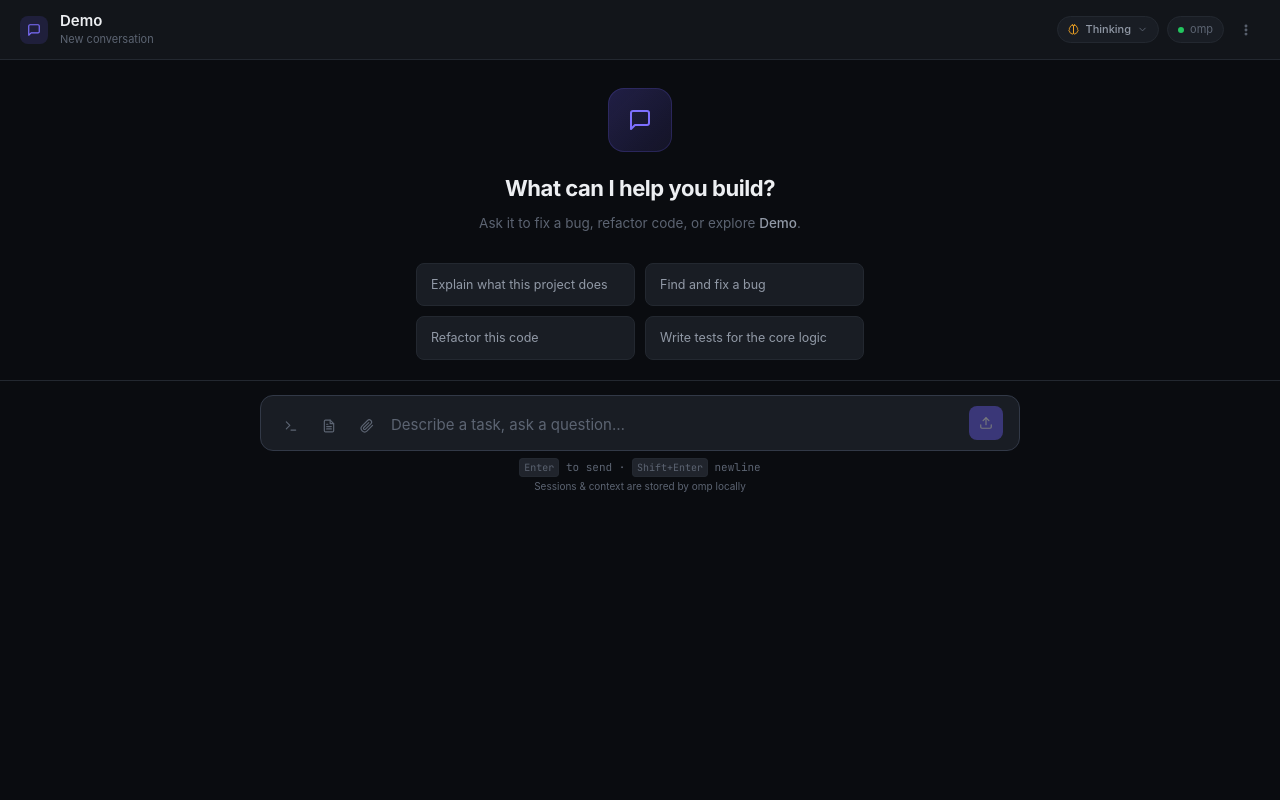
Test: AgentChat › keeps earlier turns when agent_end carries only the current turn
This screenshot has width=1280, height=800.
Type "first question" into the text box with placeholder "Describe a task, ask a question…". click: (675, 425)
box: [391,410,959,440]
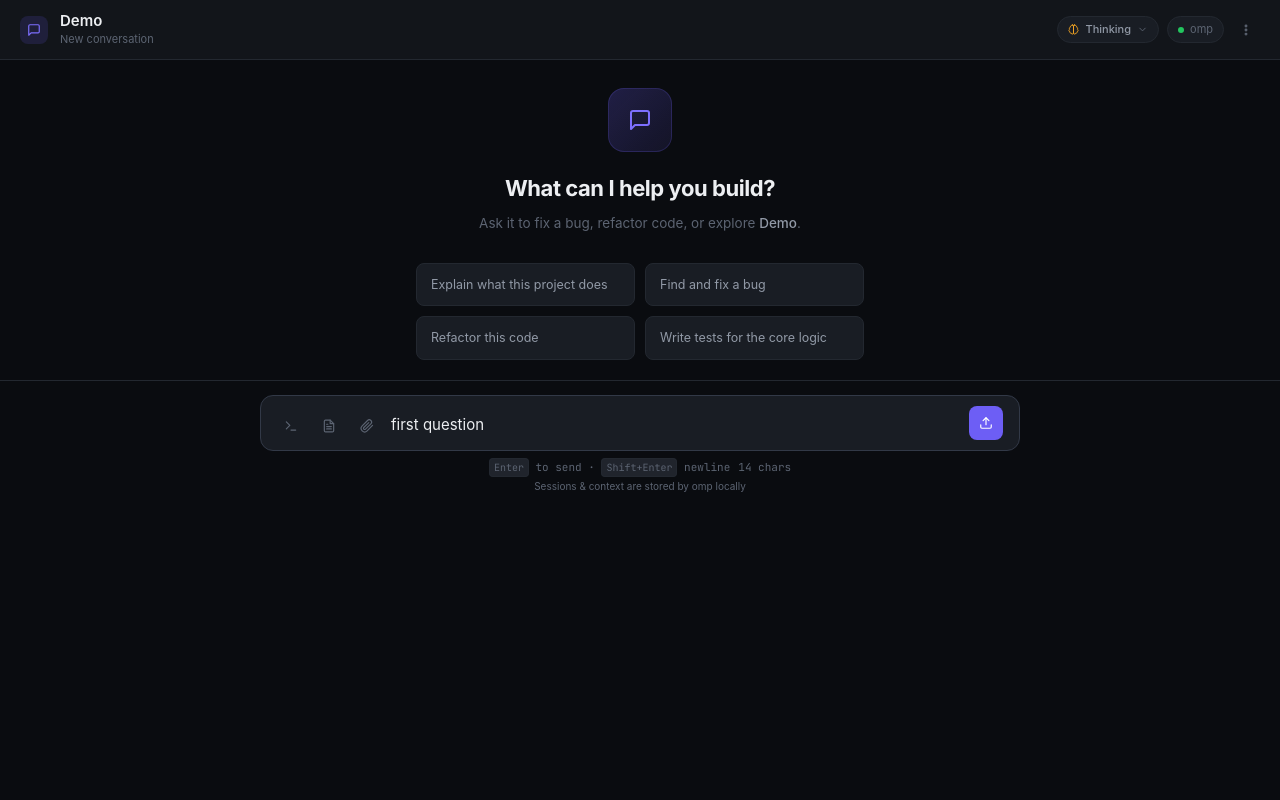
Click the button named "Send message". click: (986, 423)
box: [969,406,1003,440]
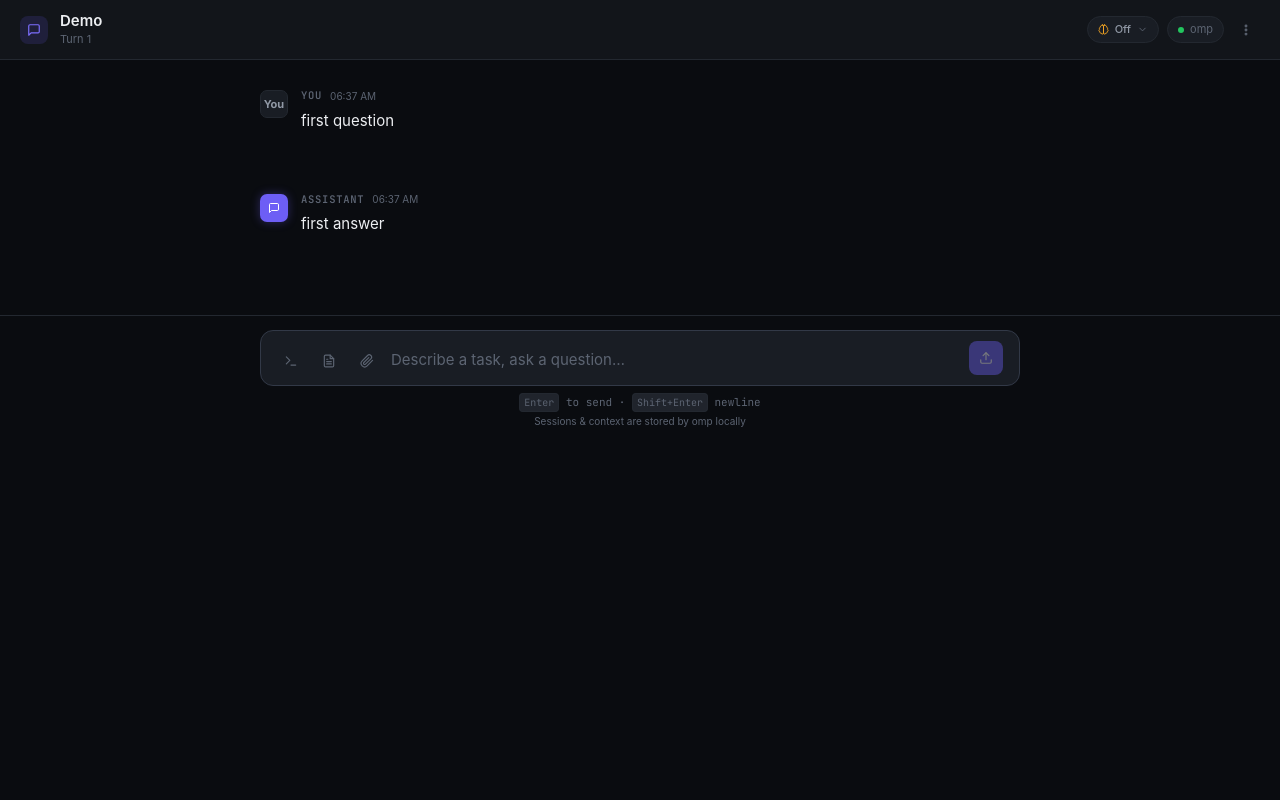
Now the text "first answer" is shown, box [301,214,384,233]
Now the text "first question" is shown, box [301,111,394,130]
# Turn 2 — agent_end only carries THIS turn's messages (turn-scoped)
Type "second question" into the text box with placeholder "Describe a task, ask a question…". click: (675, 360)
box: [391,345,959,375]
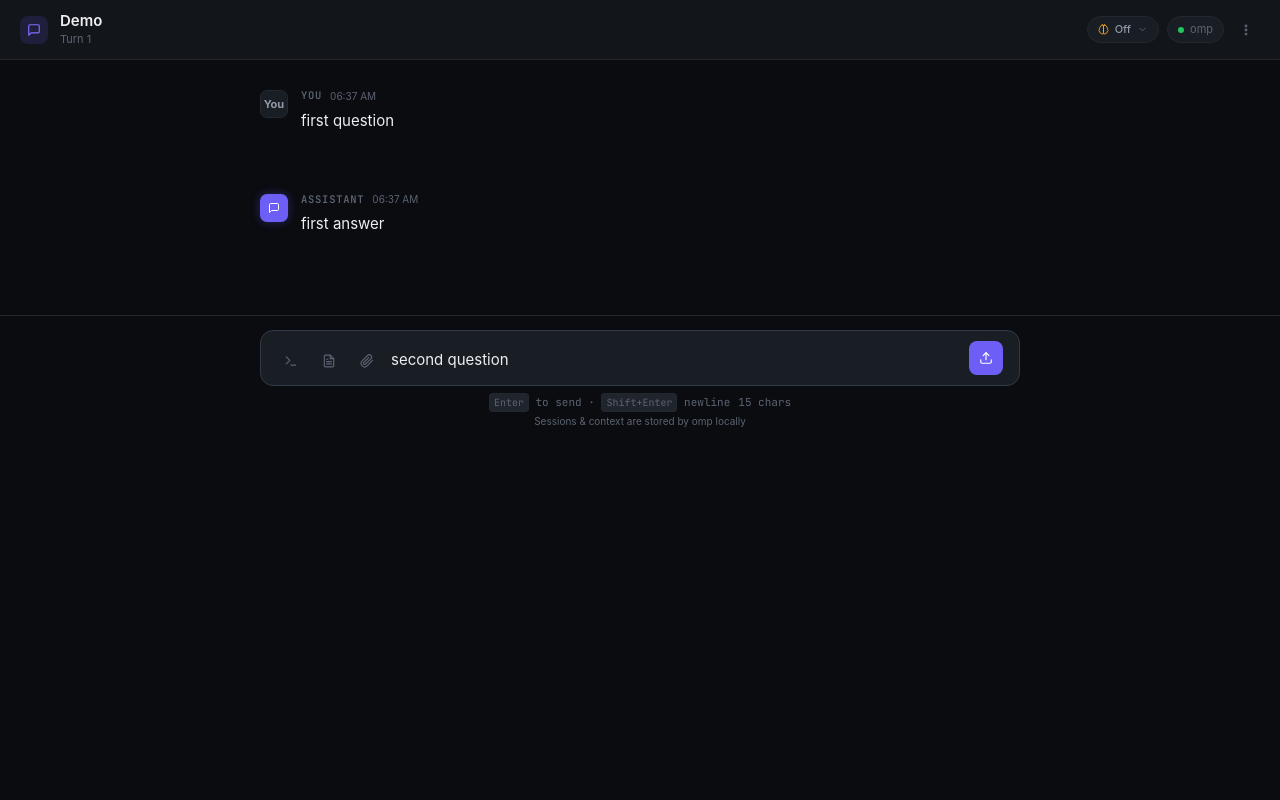
Click the button named "Send message". click: (986, 358)
box: [969,341,1003,375]
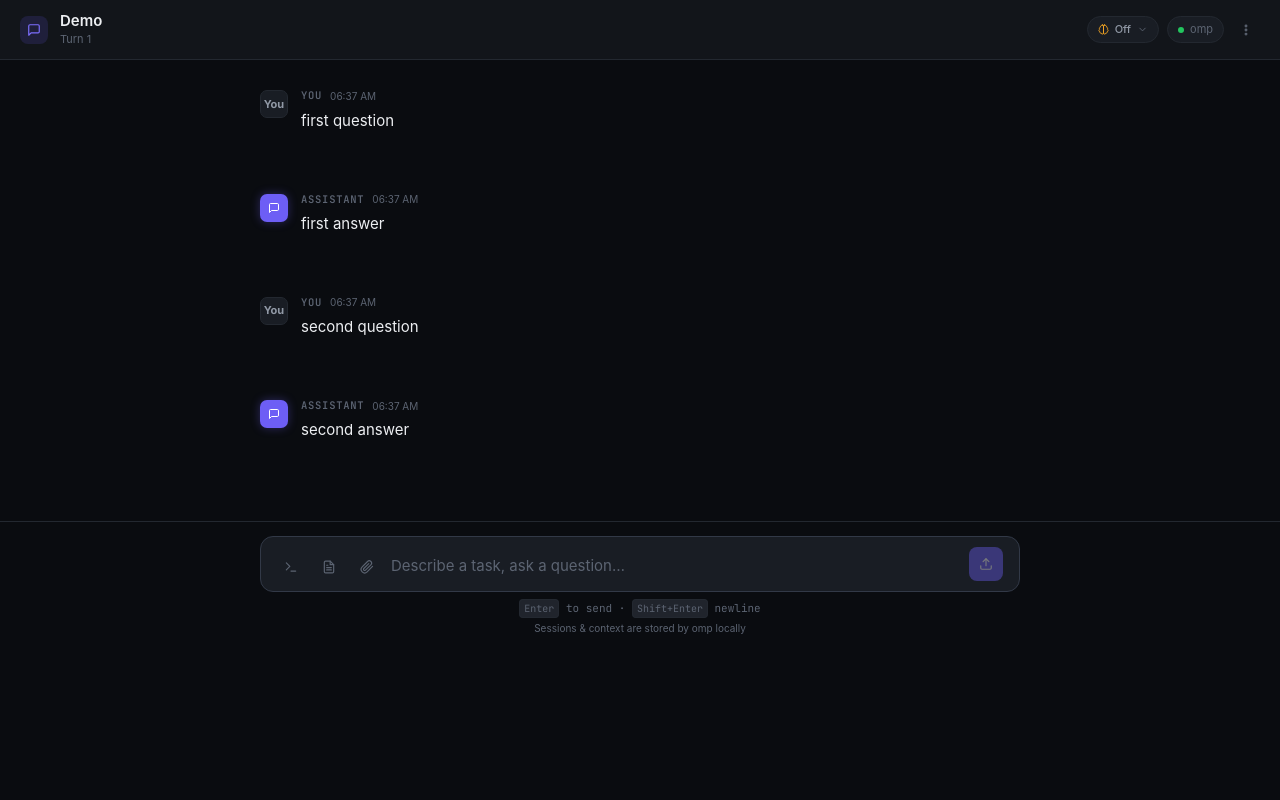
Now the text "first question" is shown, box [301,111,394,130]
Now the text "first answer" is shown, box [301,214,384,233]
Now the text "second answer" is shown, box [301,420,409,439]
